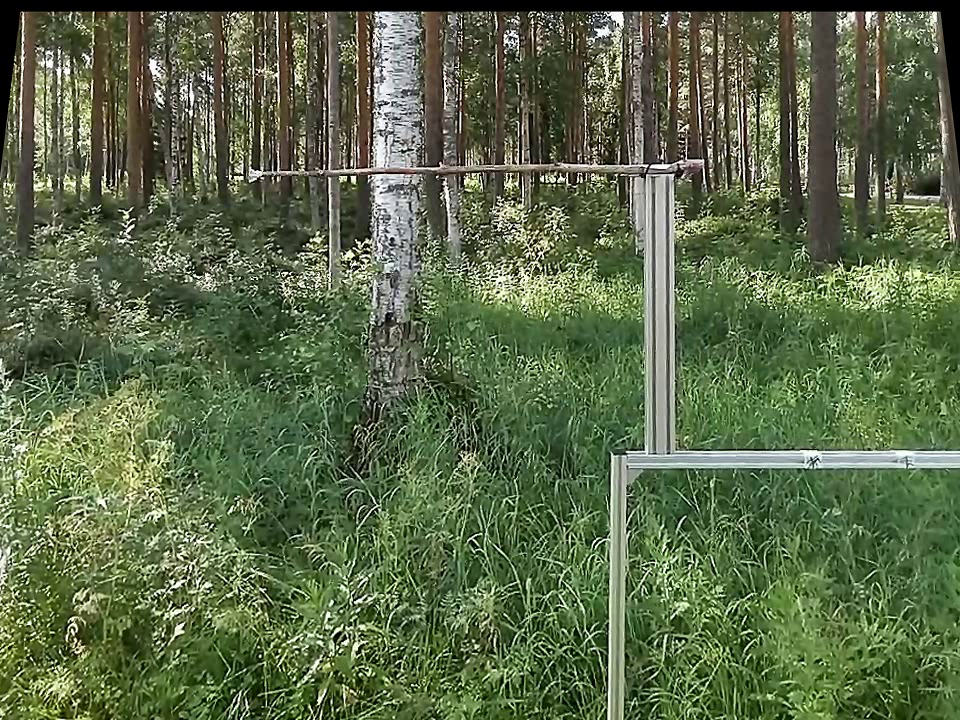aluminum_frame: (641, 177, 679, 450), (623, 442, 959, 472), (605, 441, 627, 717)
branch: (265, 151, 633, 191)
